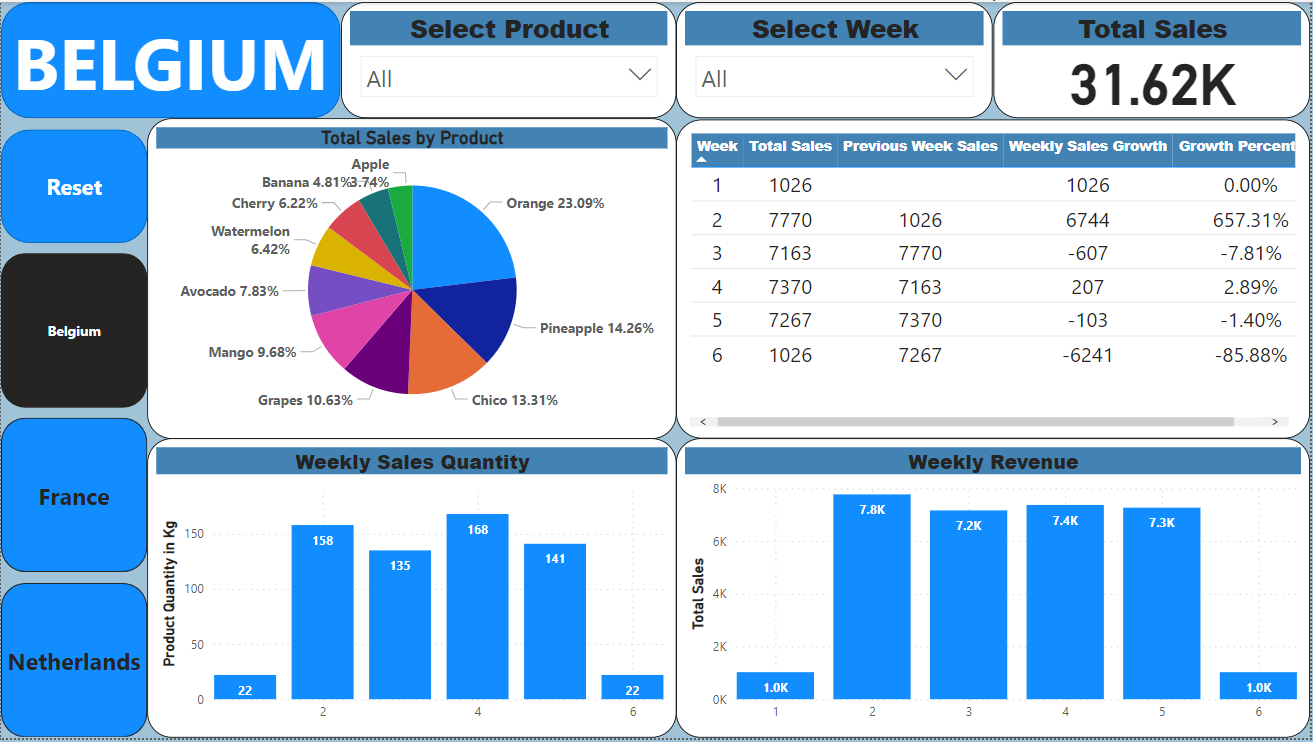

What the dashboard file says about the page in this screenshot:
{"tool":"powerbi","page":{"name":"Belgium","canvas":[1280,720],"ordinal":0},"visuals":[{"type":"clusteredColumnChart","title":"Weekly Sales Quantity ","fields":{"Category":["Belgium.Week_No"],"Y":["Sum(Belgium.weight_kg)"]},"box":[143.2,427.2,517.3,292.6],"z":0},{"type":"columnChart","title":"Weekly Revenue","fields":{"Category":["Belgium.Week_No"],"Y":["Belgium.WE_TotalSales"]},"box":[660.5,427.2,619.8,292.6],"z":1000},{"type":"tableEx","fields":{"Values":["Sum(Belgium.Week_No)","Belgium.WE_TotalSales","Belgium.PW","Belgium.WOW_Belgium","Belgium.% Growth"]},"box":[660.5,114.8,619.8,312.3],"z":2000},{"type":"slicer","title":"Select Week","fields":{"Values":["Belgium.Week_No"]},"box":[660.5,0,309.9,113.6],"z":3000},{"type":"card","title":"Total Sales ","fields":{"Values":["Belgium.WE_TotalSales"]},"box":[970.4,0,309.9,113.6],"z":4000},{"type":"pieChart","title":"Total Sales by Product","fields":{"Category":["Belgium.product_name"],"Y":["Belgium.TotalSales"]},"box":[143.2,113.6,517.3,313.6],"z":5000},{"type":"shape","box":[0,0,332.1,113.6],"z":6000},{"type":"pageNavigator","box":[0,245.7,143.2,474.1],"z":7000},{"type":"shape","title":"Clear","box":[0,124.7,143.2,111.1],"z":8000},{"type":"slicer","title":"Select Product","fields":{"Values":["Belgium.product_name"]},"box":[332.1,0,328.4,113.6],"z":9000}]}

Visuals, with their boxes in screenshot pixels (x1, y1, x2, y2), scaled from the page's 1280x720 canvas onto the 1313x742 screenshot:
"Weekly Sales Quantity " clusteredColumnChart: [147,440,678,741]
"Weekly Revenue" columnChart: [678,440,1312,741]
tableEx - Sum(Belgium.Week_No) x Belgium.WE_TotalSales: [678,118,1312,440]
"Select Week" slicer: [678,0,995,117]
"Total Sales " card: [995,0,1312,117]
"Total Sales by Product" pieChart: [147,117,678,440]
shape: [0,0,341,117]
pageNavigator: [0,253,147,741]
"Clear" shape: [0,129,147,243]
"Select Product" slicer: [341,0,678,117]
